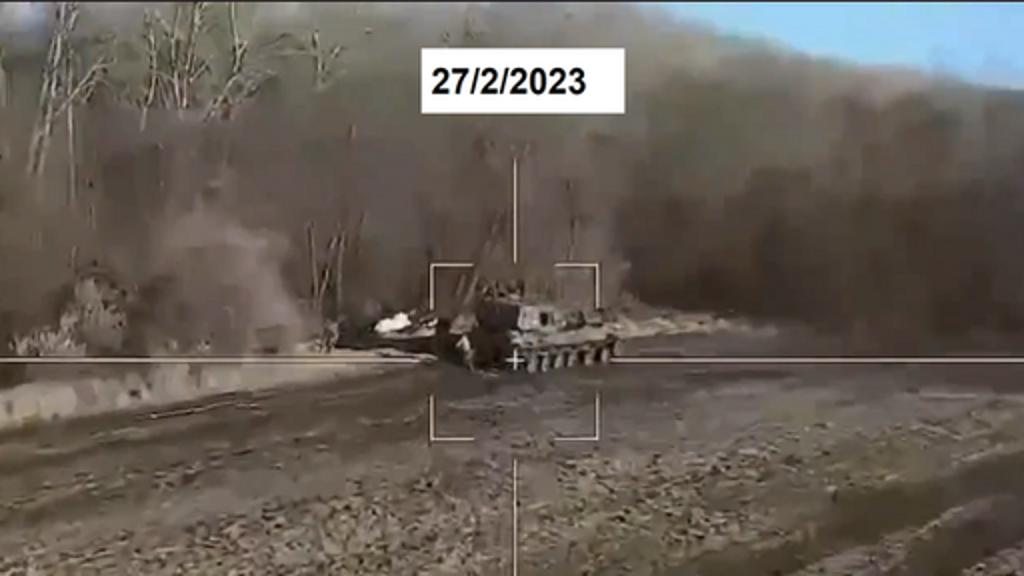ART: (478, 294, 624, 370)
